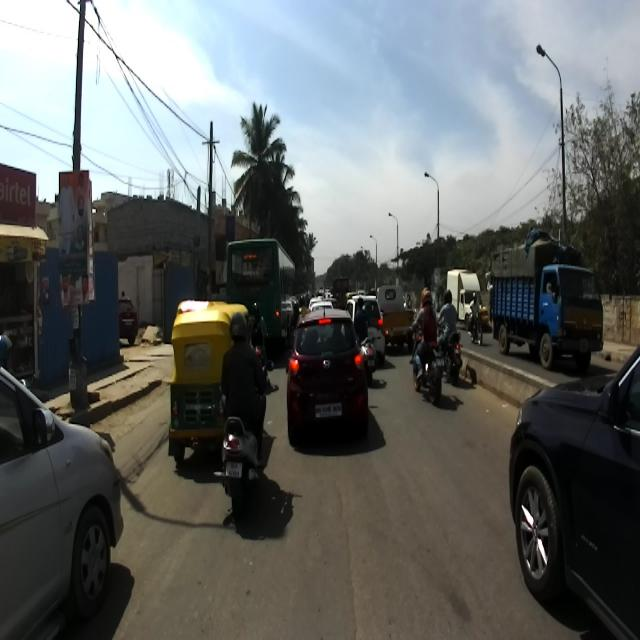Car: (508, 342, 640, 639)
Car_Hyundai: (285, 306, 367, 446)
Car_Toyota: (0, 365, 124, 639)
autorickshaw: (167, 298, 249, 462)
motorcycle_KTM: (406, 314, 444, 402)
motorcycle_Yamaha: (435, 314, 463, 385)
scooter: (212, 358, 274, 512)
truck: (485, 226, 603, 370)
